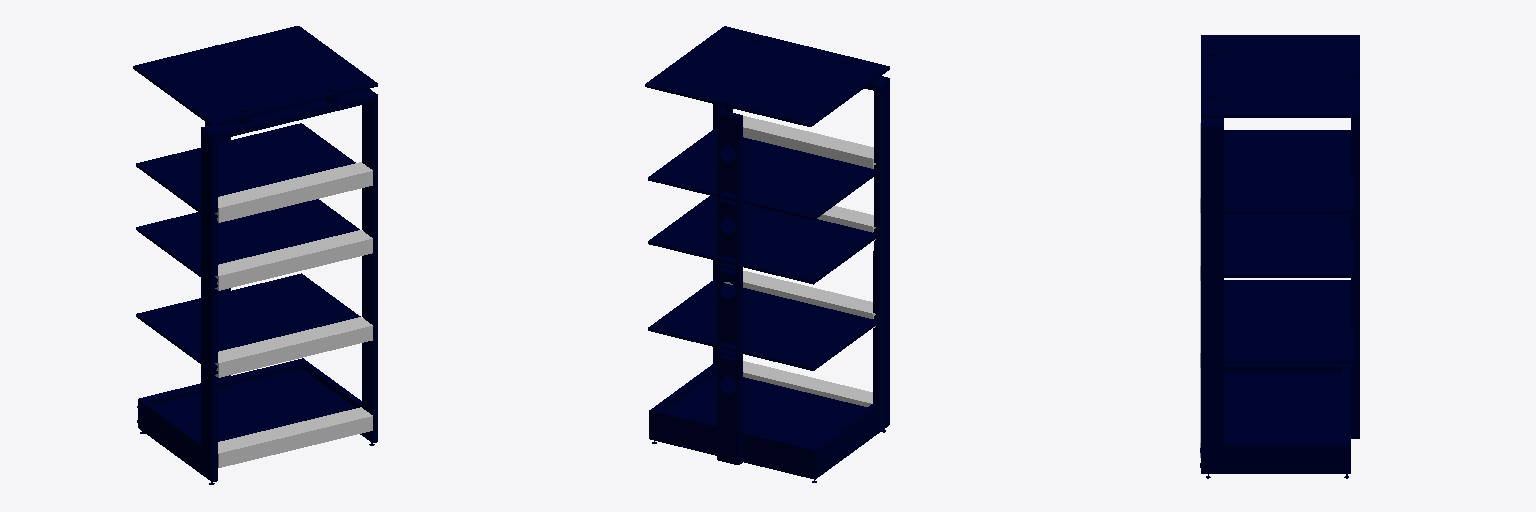
The picture shows the model from 3 angles: view 1: azimuth 30°, elevation 25°; view 2: azimuth 150°, elevation 25°; view 3: azimuth 270°, elevation 25°; orthographic projection.
Parts seen in each view (by area): view 1: 货架6, 指示灯2, 指示灯3, 指示灯4, 指示灯1; view 2: 货架6, 指示灯4, 指示灯2, 指示灯1, 指示灯3; view 3: 货架6.
Boxes of the visible parts, x1,y1,x2,y2 form: 货架6: [133, 26, 377, 484]; 指示灯2: [215, 317, 372, 377]; 指示灯3: [215, 230, 372, 290]; 指示灯4: [215, 162, 372, 222]; 指示灯1: [218, 407, 372, 467]; 货架6: [645, 26, 889, 482]; 指示灯4: [743, 116, 875, 168]; 指示灯2: [724, 271, 875, 327]; 指示灯1: [743, 361, 872, 406]; 指示灯3: [817, 206, 875, 239]; 货架6: [1200, 35, 1359, 478].
Size of the model in its own units: 4.88 by 10.11 by 4.03.